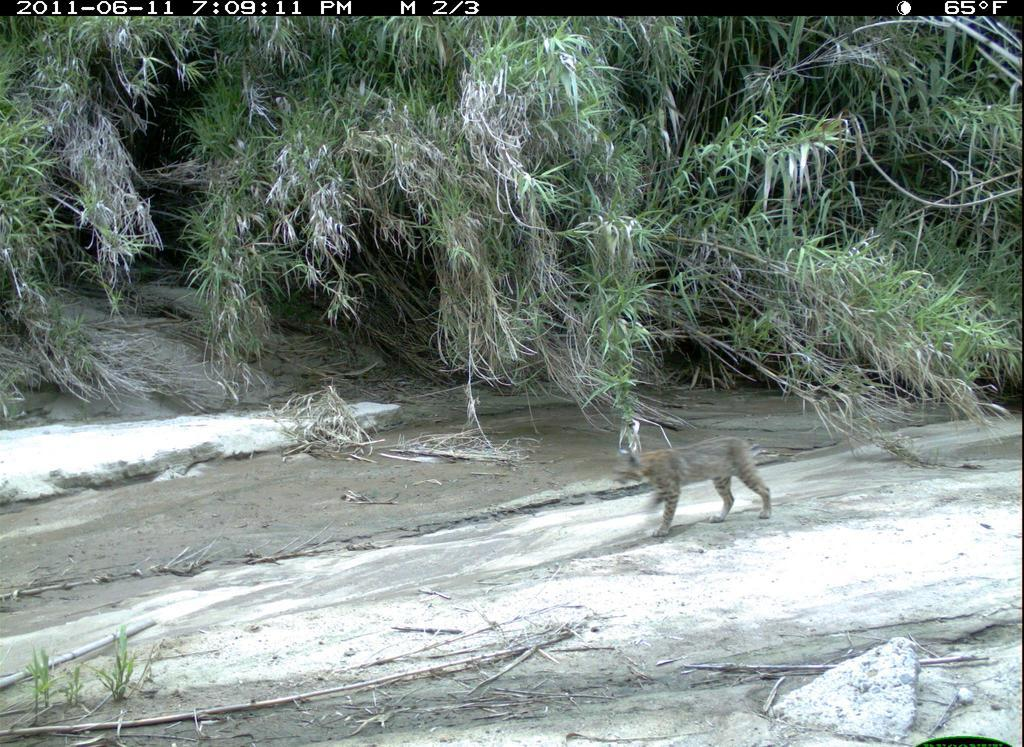bobcat: (606, 428, 785, 543)
